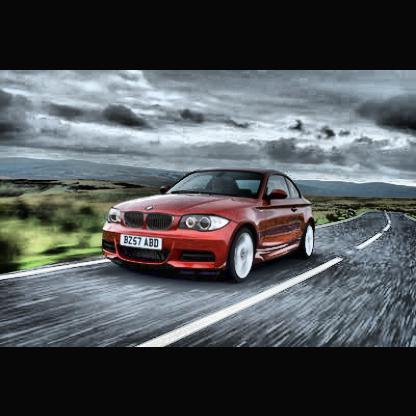BMW 1 Series Coupe 2012: (100, 168, 321, 285)
